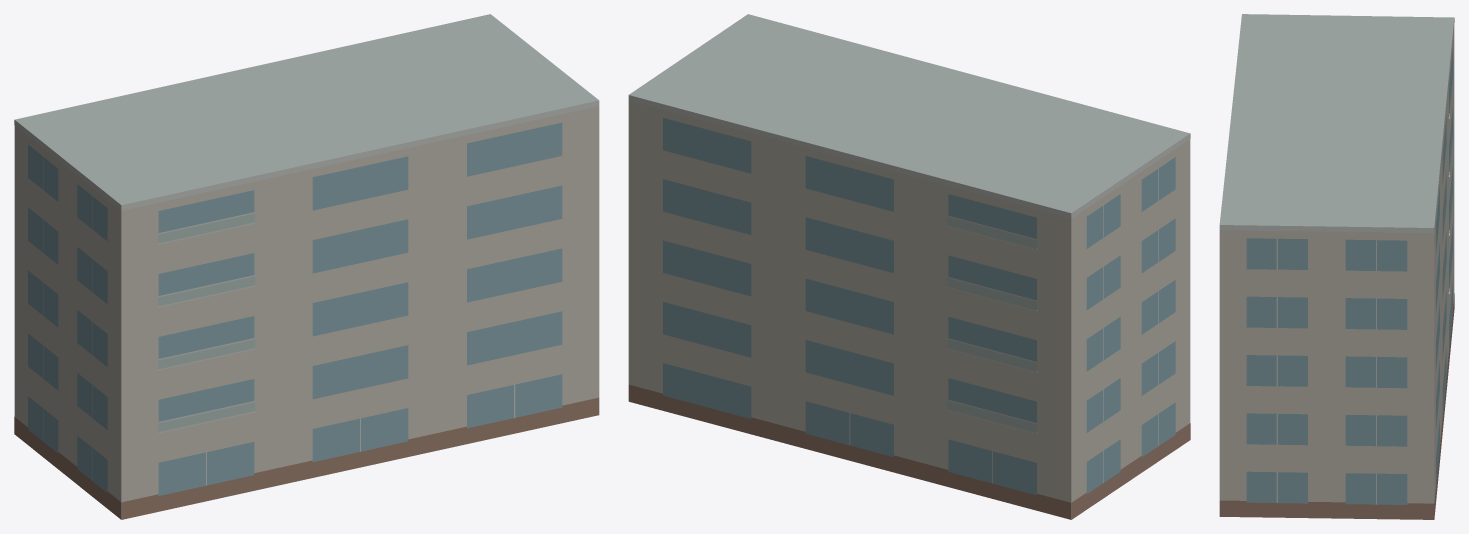
Rendered from survey-upis-32653980.glb.
The picture shows the model from 3 angles, left to right: view 1: azimuth 30°, elevation 25°; view 2: azimuth 150°, elevation 25°; view 3: azimuth 270°, elevation 25°; orthographic projection. The views are drawn at different scales.
Parts seen in each view (by area): view 1: survey-upis-32653980.tmp; view 2: survey-upis-32653980.tmp; view 3: survey-upis-32653980.tmp.
Part boxes in pixels (x1,y1,x2,y2): survey-upis-32653980.tmp: [14, 14, 599, 519]; survey-upis-32653980.tmp: [628, 14, 1190, 519]; survey-upis-32653980.tmp: [1219, 14, 1454, 519].
Size of the model in its own units: 21.63 by 13.75 by 10.04.
